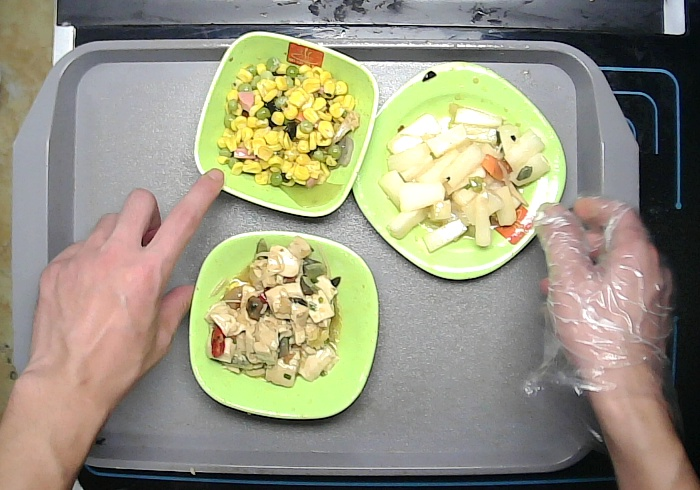SHKJ-Lv_Se_Cai_Die: (186, 232, 382, 424)
SHKJ-Lv_Se_Si_Fang_Cai_Die: (351, 63, 567, 283)
SHKJ-Lv_Se_Xiao_Fang_Die: (193, 30, 379, 219)
